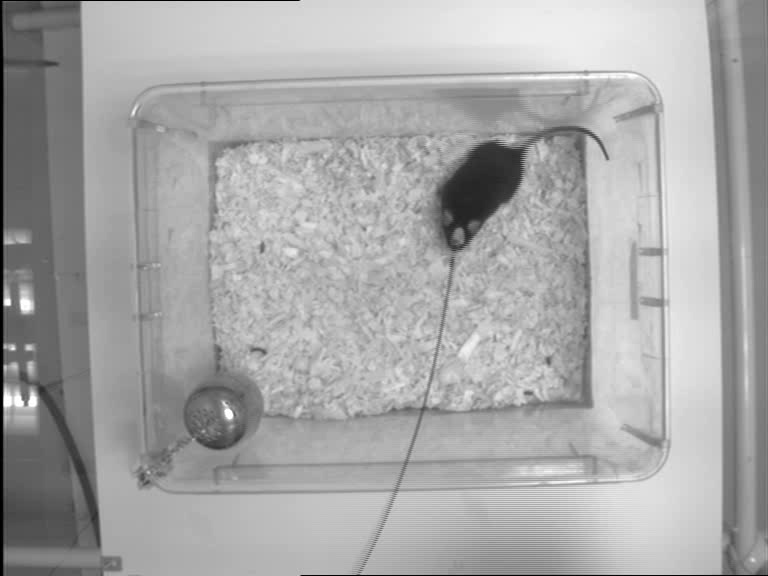mice: (439, 123, 612, 256)
